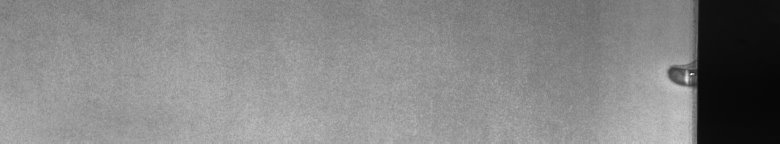hb: (659, 58, 688, 92)
